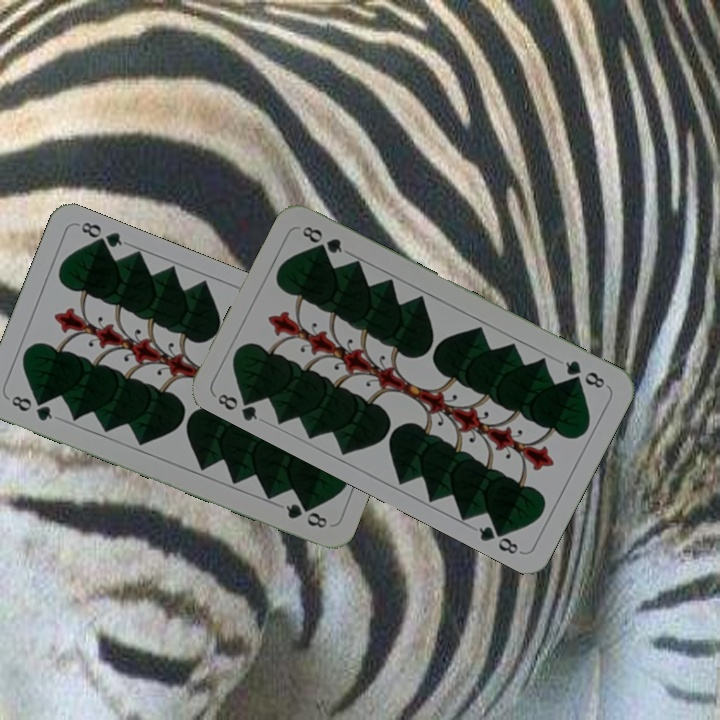G8: (213, 388, 261, 424), (561, 356, 608, 391), (7, 391, 55, 424)
